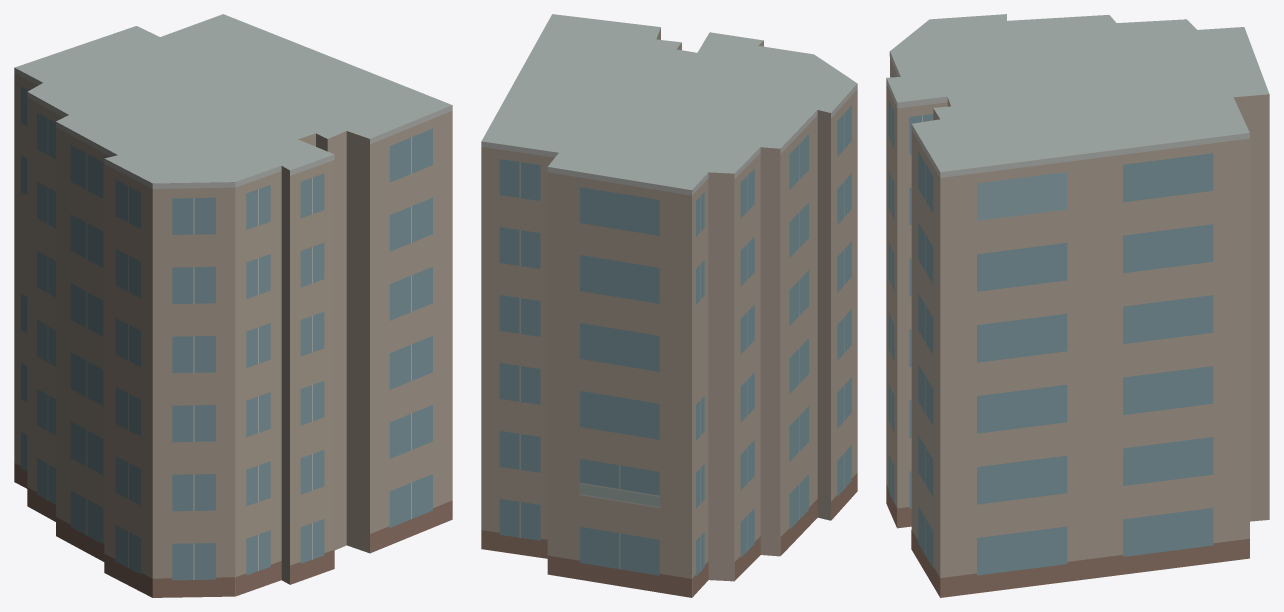
The model's file is survey-upis-32496769.glb.
3 views of the same model, side by side, from view 1: azimuth 30°, elevation 25°; view 2: azimuth 150°, elevation 25°; view 3: azimuth 270°, elevation 25° (orthographic). The views are drawn at different scales.
Visible parts, largest first — view 1: survey-upis-32496769.tmp; view 2: survey-upis-32496769.tmp; view 3: survey-upis-32496769.tmp.
Boxes of the visible parts, x1,y1,x2,y2 form: survey-upis-32496769.tmp: (14, 14, 452, 597); survey-upis-32496769.tmp: (481, 14, 857, 597); survey-upis-32496769.tmp: (886, 14, 1269, 597).
Size of the model in its own units: 14.52 by 18.2 by 14.86.
